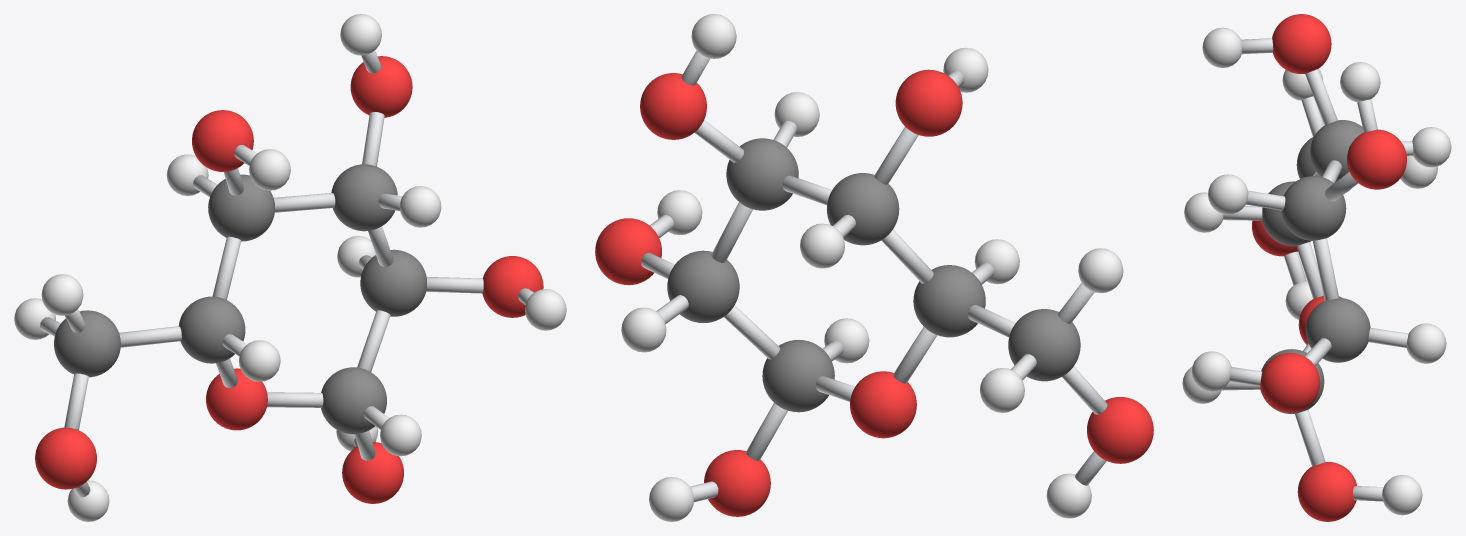
Rendered from molecule-d-glucose.glb.
3 views of the same model, side by side, from view 1: azimuth 30°, elevation 25°; view 2: azimuth 150°, elevation 25°; view 3: azimuth 270°, elevation 25° (orthographic). The views are drawn at different scales.
Visible parts, largest first — view 1: bonds, carbon_4, carbon_3, carbon_5, carbon_6, carbon_2, carbon_1, oxygen_6, oxygen_2, oxygen_3, oxygen_5, oxygen_1 (+12 smaller); view 2: bonds, carbon_3, carbon_4, carbon_2, carbon_5, carbon_6, carbon_1, oxygen_2, oxygen_1, oxygen_3, oxygen_6, oxygen_5 (+13 smaller); view 3: bonds, carbon_2, carbon_4, oxygen_4, oxygen_3, oxygen_2, oxygen_5, carbon_1, hydrogen_2, hydrogen_11, hydrogen_4, hydrogen_8 (+13 smaller).
Boxes of the visible parts, left/top/right/bottom form: bonds: left=40, top=50, right=533, bottom=497; carbon_4: left=360, top=249, right=426, bottom=316; carbon_3: left=178, top=296, right=245, bottom=363; carbon_5: left=321, top=367, right=386, bottom=434; carbon_6: left=54, top=310, right=120, bottom=377; carbon_2: left=331, top=164, right=397, bottom=231; carbon_1: left=208, top=174, right=275, bottom=241; oxygen_6: left=35, top=427, right=96, bottom=489; oxygen_2: left=192, top=110, right=253, bottom=171; oxygen_3: left=350, top=56, right=412, bottom=117; oxygen_5: left=342, top=442, right=403, bottom=503; oxygen_1: left=206, top=368, right=267, bottom=430; bonds: left=641, top=50, right=1107, bottom=502; carbon_3: left=913, top=265, right=985, bottom=337; carbon_4: left=667, top=250, right=739, bottom=322; carbon_2: left=726, top=138, right=798, bottom=210; carbon_5: left=762, top=340, right=834, bottom=412; carbon_6: left=1008, top=309, right=1080, bottom=381; carbon_1: left=826, top=173, right=899, bottom=245; oxygen_2: left=895, top=69, right=962, bottom=136; oxygen_1: left=850, top=371, right=916, bottom=438; oxygen_3: left=640, top=73, right=706, bottom=139; oxygen_6: left=1087, top=397, right=1153, bottom=463; oxygen_5: left=704, top=450, right=770, bottom=516; bonds: left=1221, top=38, right=1413, bottom=501; carbon_2: left=1281, top=176, right=1346, bottom=240; carbon_4: left=1305, top=298, right=1370, bottom=362; oxygen_4: left=1260, top=353, right=1320, bottom=412; oxygen_3: left=1347, top=129, right=1406, bottom=189; oxygen_2: left=1272, top=14, right=1331, bottom=73; oxygen_5: left=1297, top=462, right=1356, bottom=521; carbon_1: left=1310, top=120, right=1363, bottom=181; hydrogen_2: left=1208, top=174, right=1248, bottom=214; hydrogen_11: left=1382, top=475, right=1422, bottom=515; hydrogen_4: left=1406, top=323, right=1446, bottom=363; hydrogen_8: left=1202, top=27, right=1242, bottom=67.
Bounding box in the file's own units: 0.2181 × 0.1949 × 0.1039.
